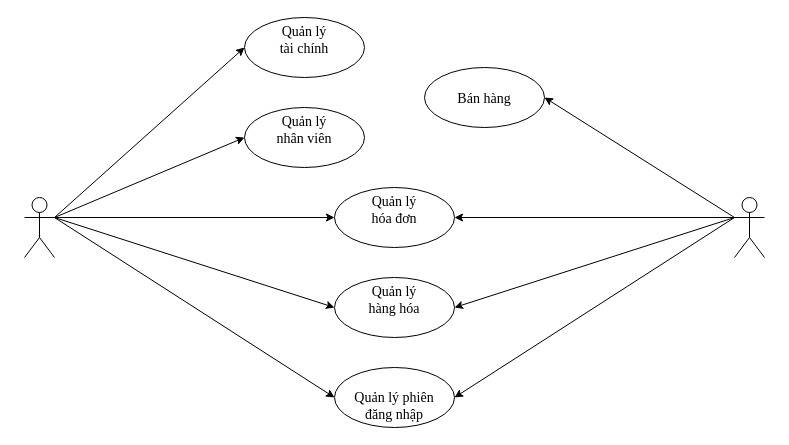
This 789x445 diagram has some shape labels left out. The shapes that lost their labels are listed below. From the top down, each one's centre as x and y in pixels, then its label:
At (x=39, y=227): "Quản lý".
At (x=749, y=227): "Dược sĩ".
